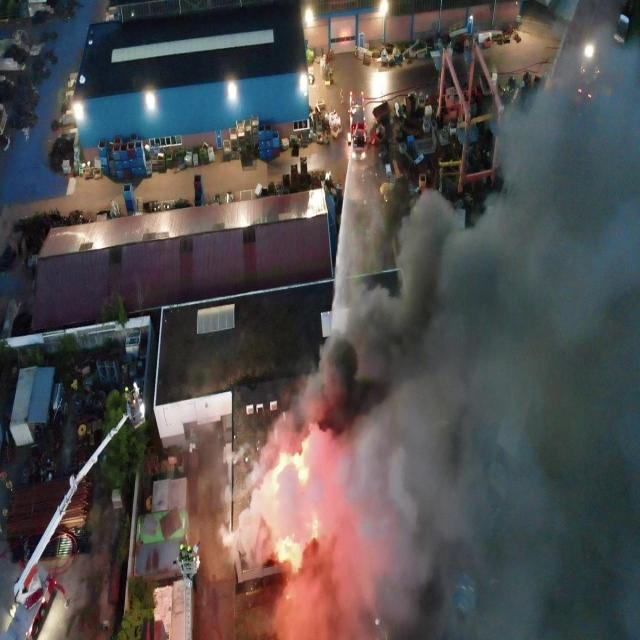Fire: (280, 452, 310, 484), (276, 535, 300, 563), (311, 519, 318, 539)
Smoke: (220, 20, 640, 640)
